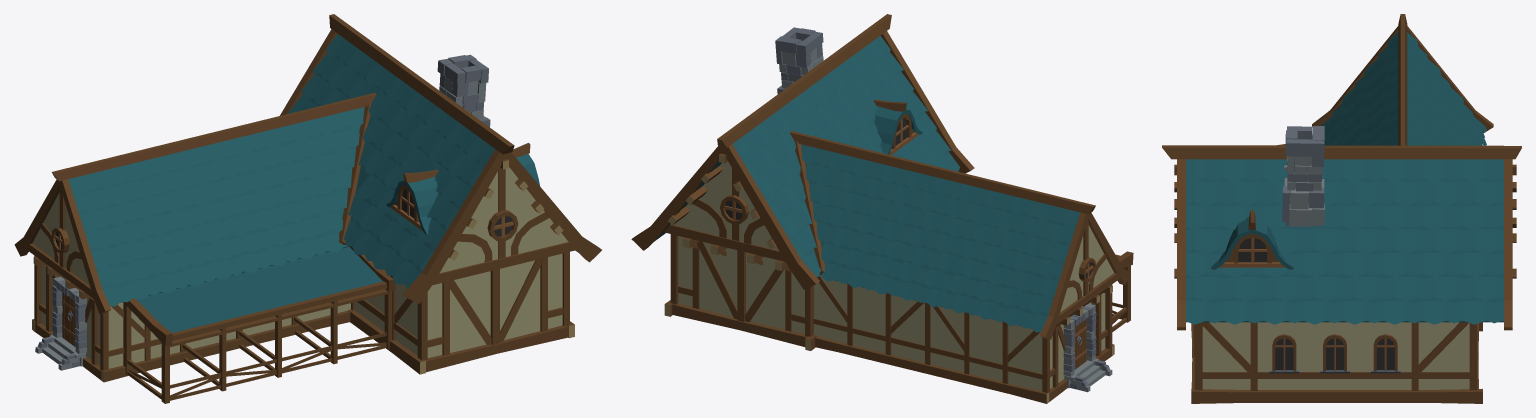
Rendered from Stable.glb.
The picture shows the model from 3 angles, left to right: view 1: azimuth 30°, elevation 25°; view 2: azimuth 150°, elevation 25°; view 3: azimuth 270°, elevation 25°; orthographic projection. The views are drawn at different scales.
Parts seen in each view (by area): view 1: Stable; view 2: Stable; view 3: Stable.
Part boxes in pixels (x1,y1,x2,y2): Stable: [14, 14, 601, 403]; Stable: [631, 14, 1133, 403]; Stable: [1162, 14, 1521, 403].
Size of the model in its own units: 4.7 by 2.49 by 3.33.
Materials: 1 (1 with a texture image).
